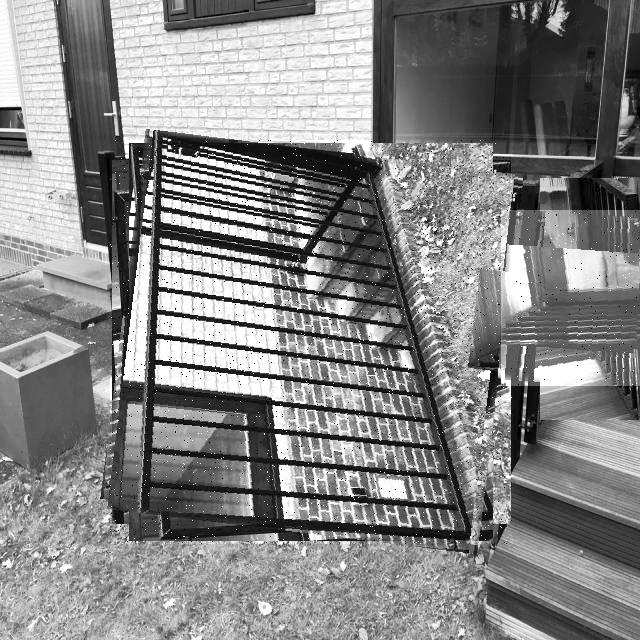fences: (110, 140, 513, 544), (501, 210, 640, 386)
